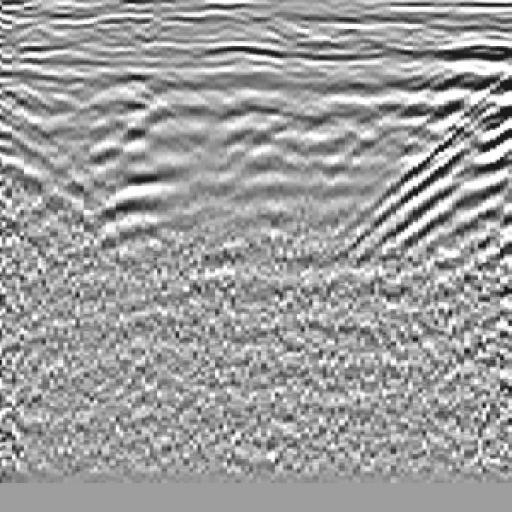metalic: (67, 48, 219, 272)
nonmetalic: (348, 52, 512, 309)
